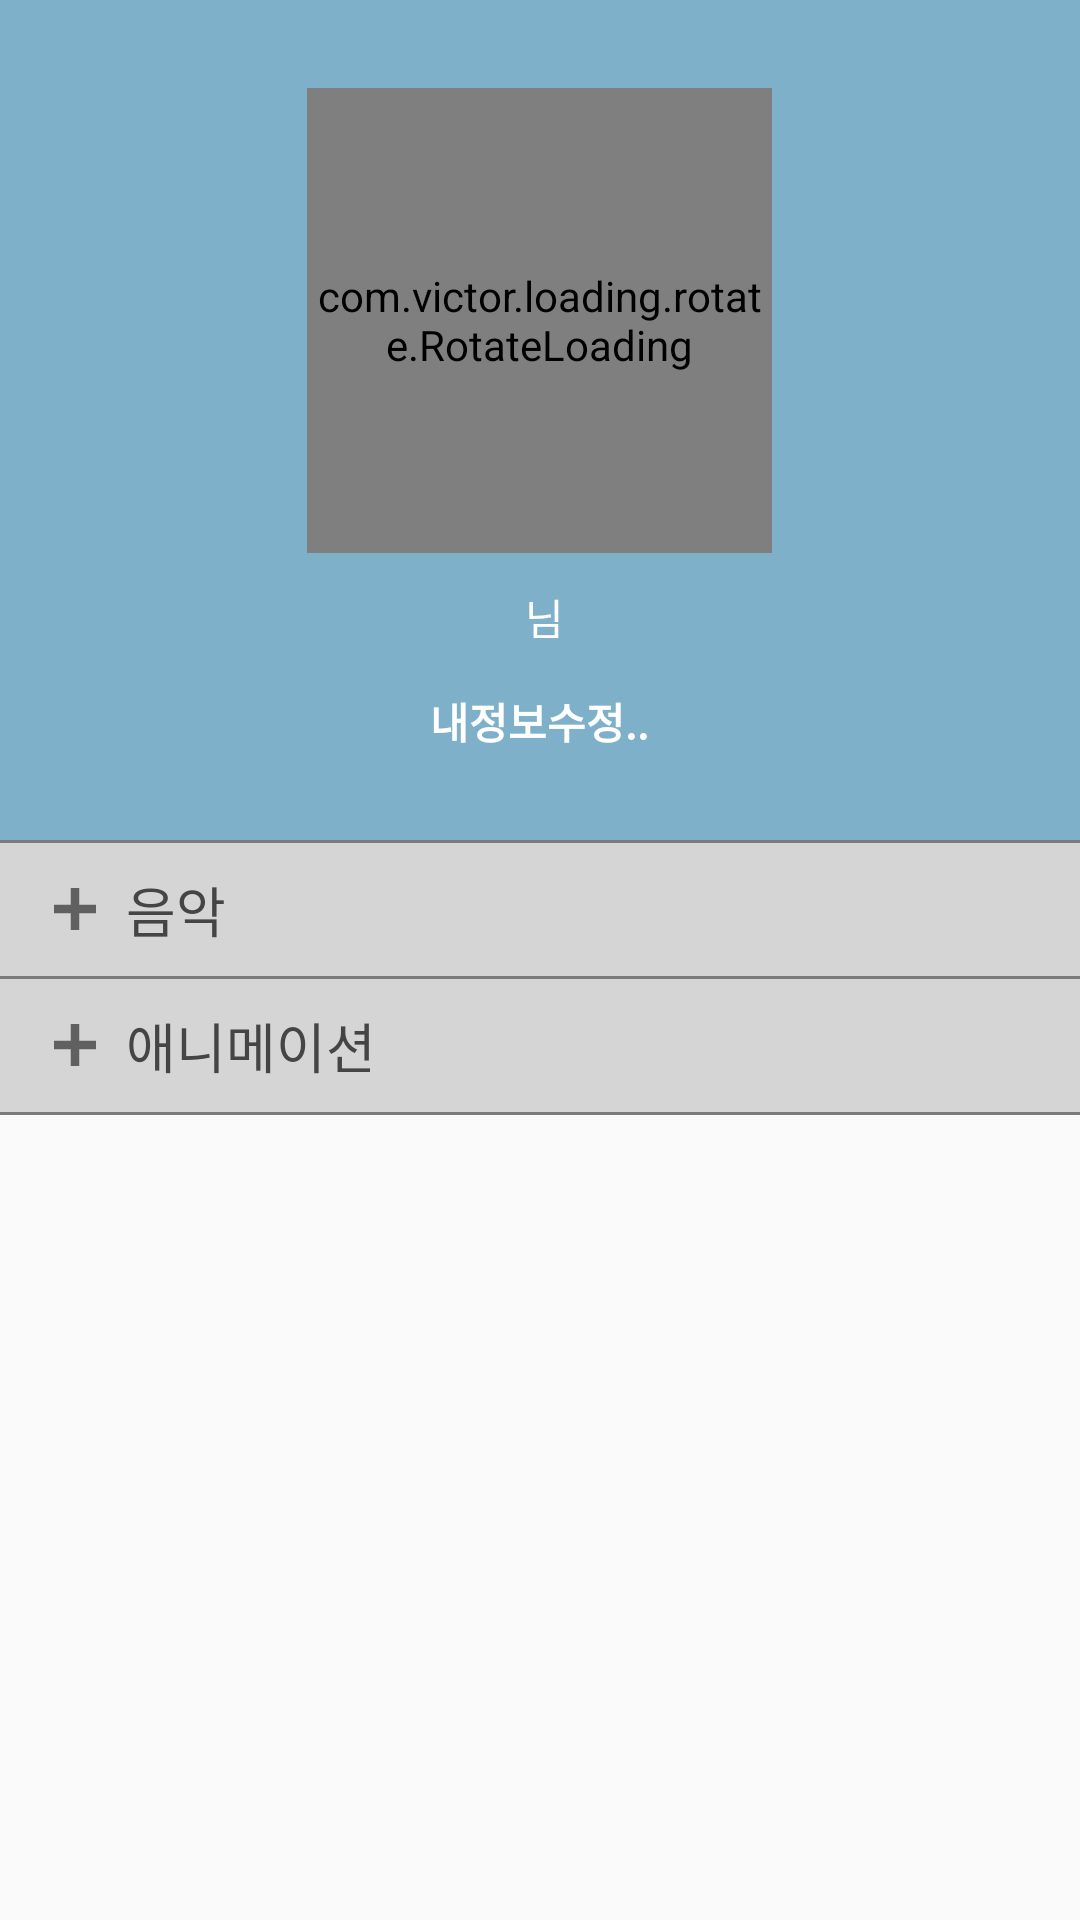

Icon click points for this 1080 x 1920 phone screenshot, format (x,y):
plus: (75,909), (75,1045)
